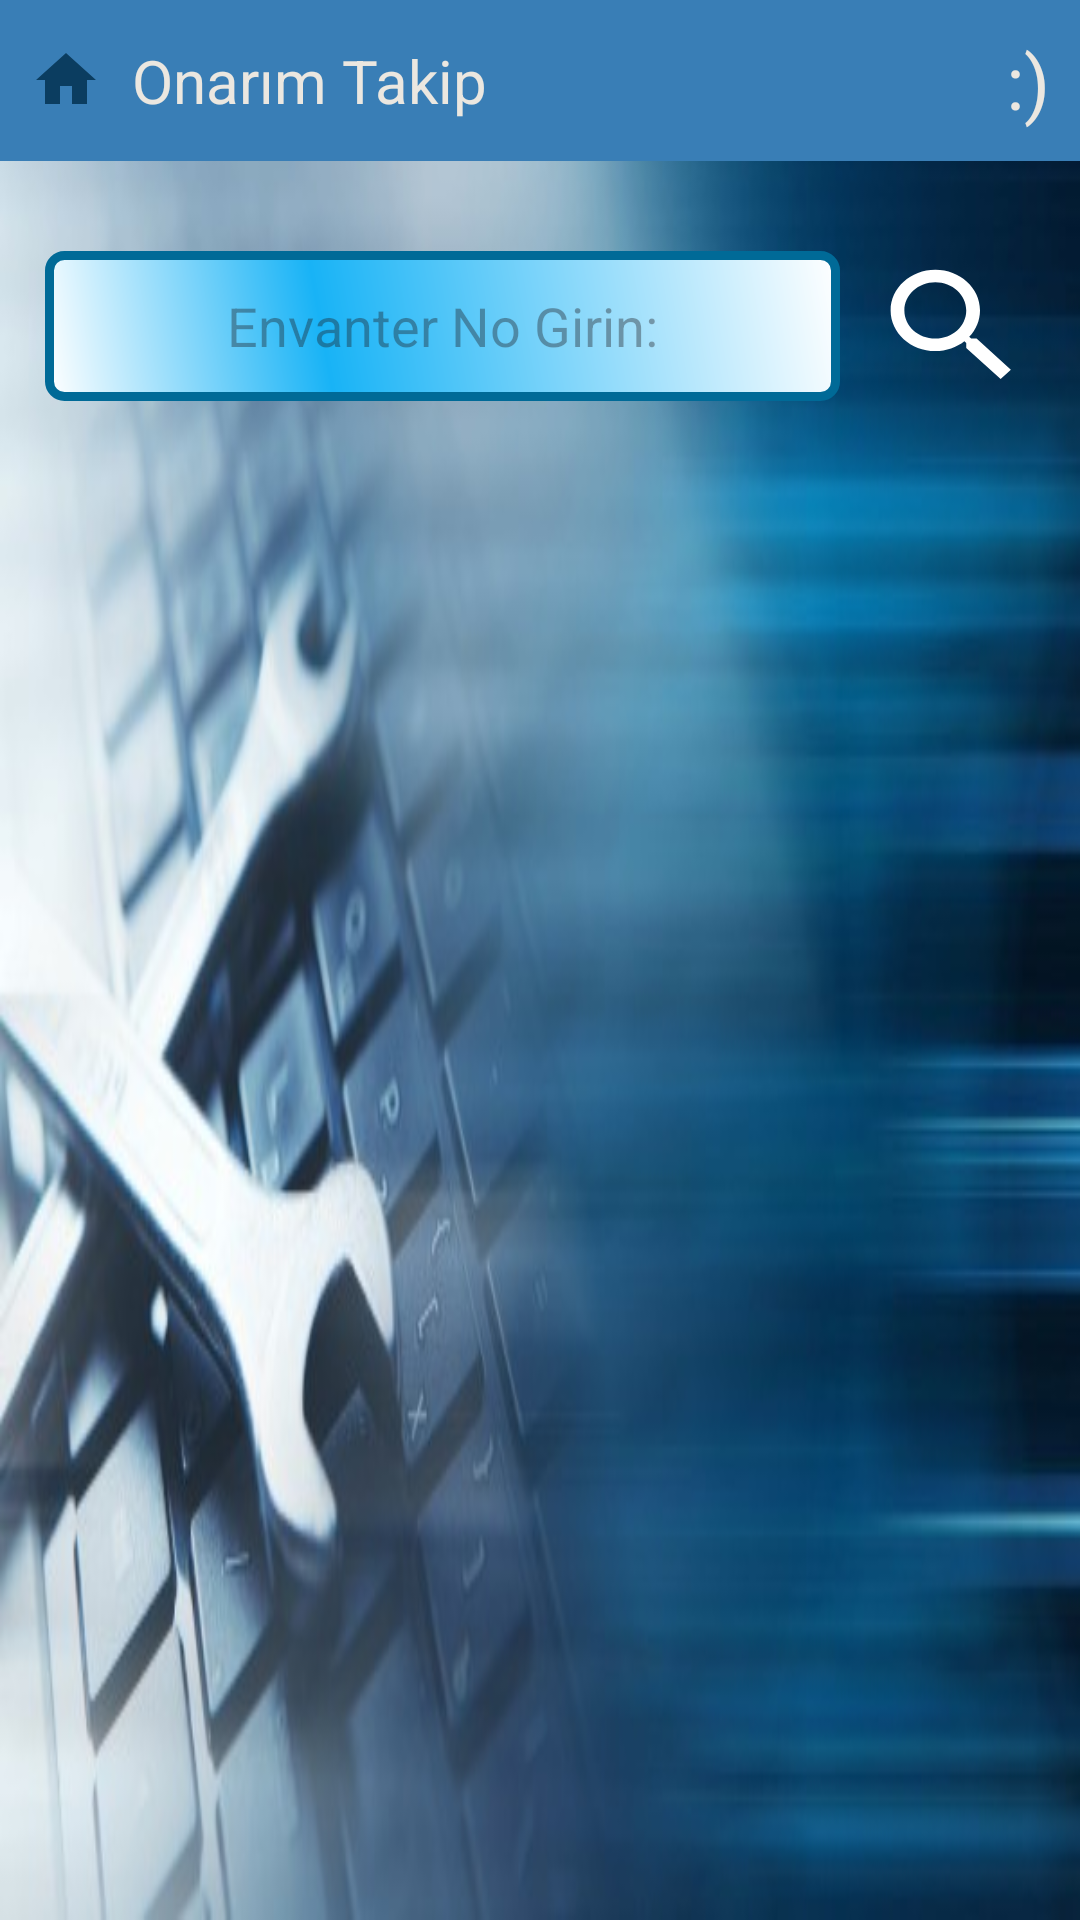

Where icons sit on this 1080px×1920px app screen, as (x1, y1, x2, y2):
home: (36, 53, 96, 104)
search: (870, 269, 1011, 401)
